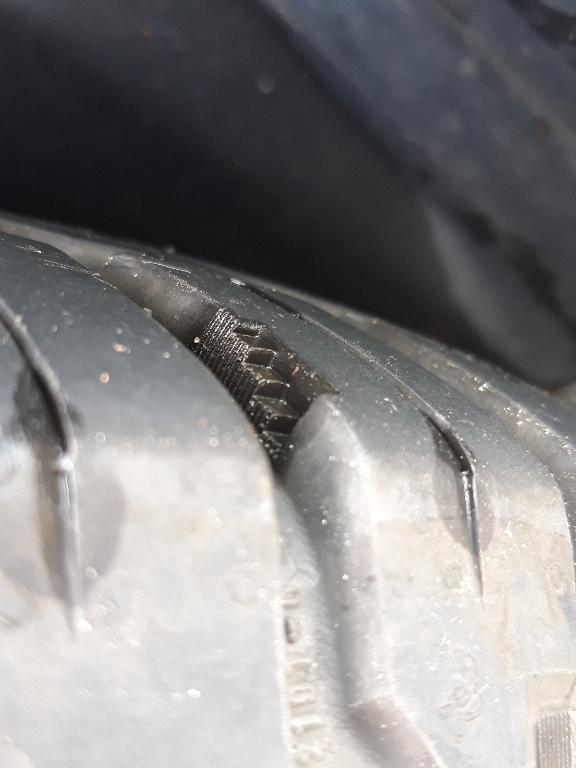temoin:90: (185, 302, 348, 470)
